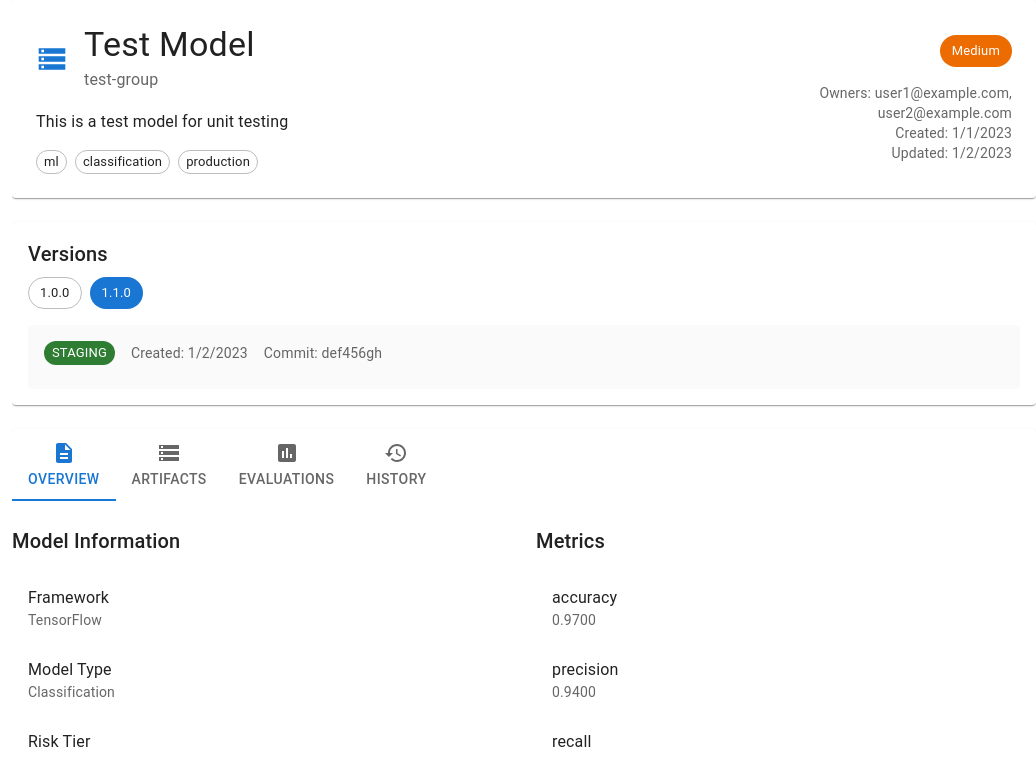
Test: ModelDetail › displays version history in history tab
The image size is (1036, 757).
// Click History tab
Click the tab "History" at {"x": 396, "y": 465}, box [350, 429, 442, 501]
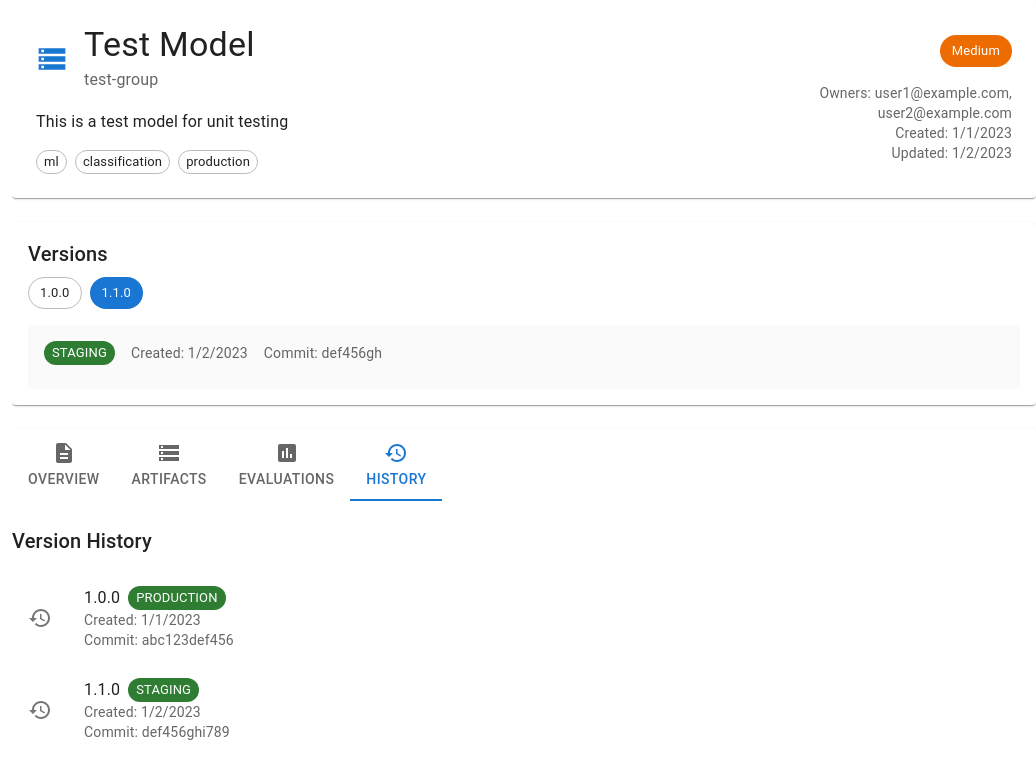
Expected: the text "1.0.0" below "Versions" is shown, [40, 285, 70, 300]
Expected: the heading "Version History" is shown, [12, 529, 152, 553]
